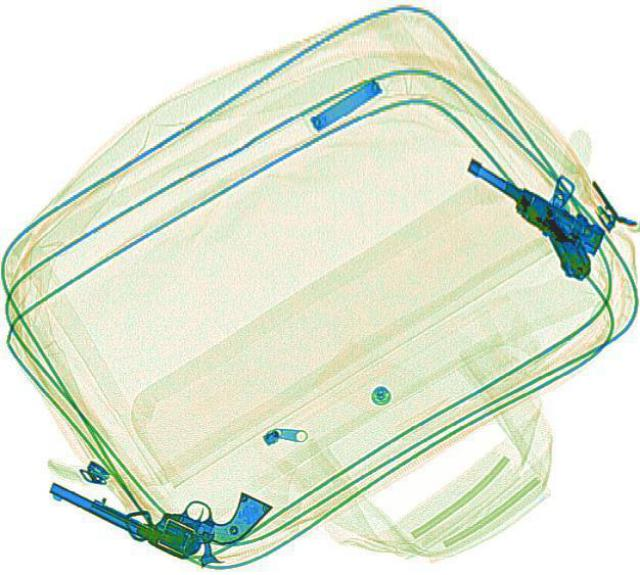Gun: (44, 424, 274, 573), (436, 149, 620, 283)
